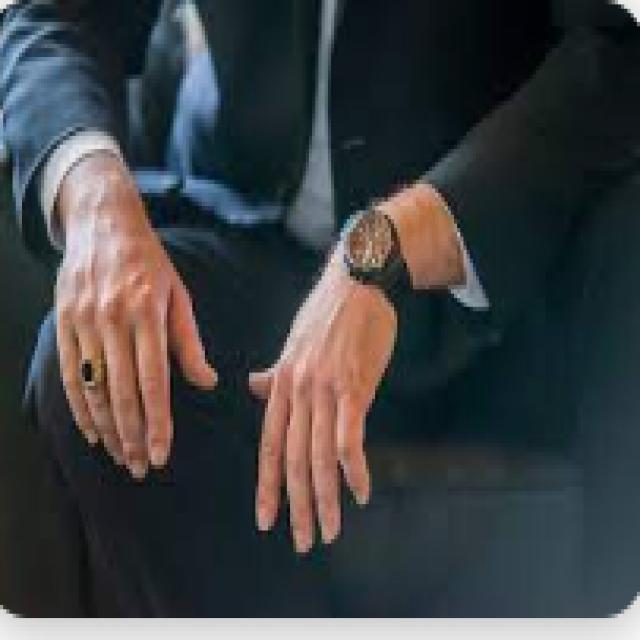Watch: (338, 198, 422, 324)
